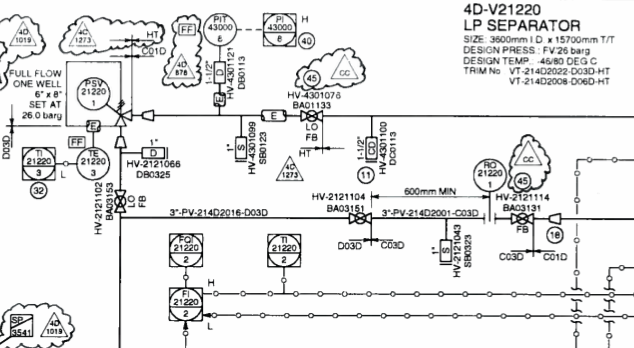Instrument: (466, 154, 509, 194), (199, 8, 239, 50), (73, 71, 113, 113), (73, 144, 113, 184)
Instrument-square: (258, 8, 300, 52), (263, 229, 304, 272), (162, 283, 204, 324), (166, 227, 205, 271), (18, 143, 58, 183)
